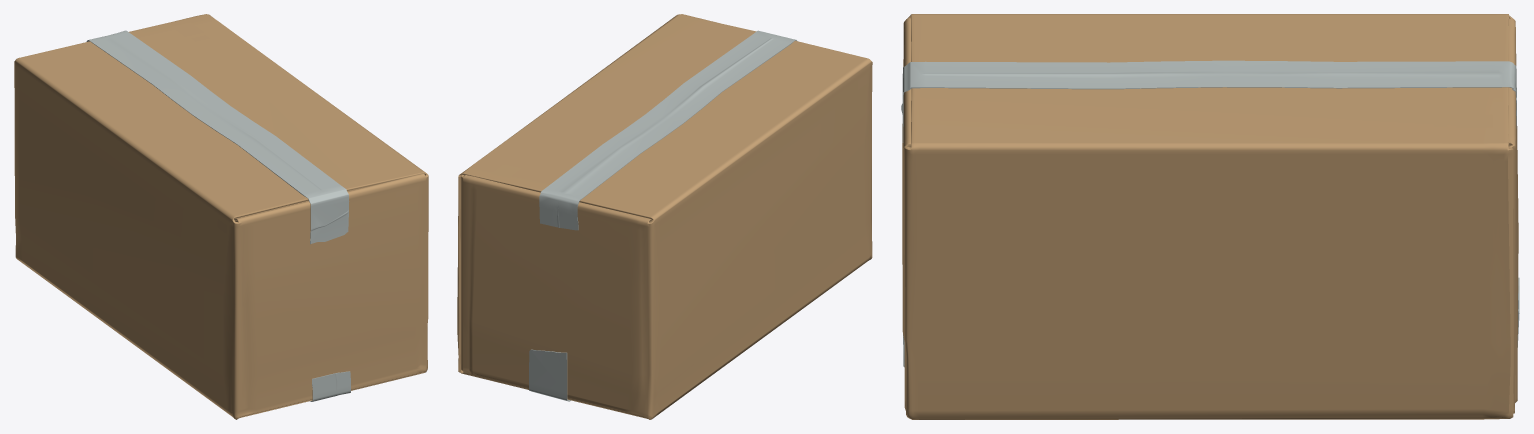
Rendered from box_long_a08.glb.
3 renders of one model, left to right at view 1: azimuth 30°, elevation 25°; view 2: azimuth 150°, elevation 25°; view 3: azimuth 270°, elevation 25°, orthographic. The views are drawn at different scales.
Bounding box in the file's own units: 0.1575 × 0.1561 × 0.309.
